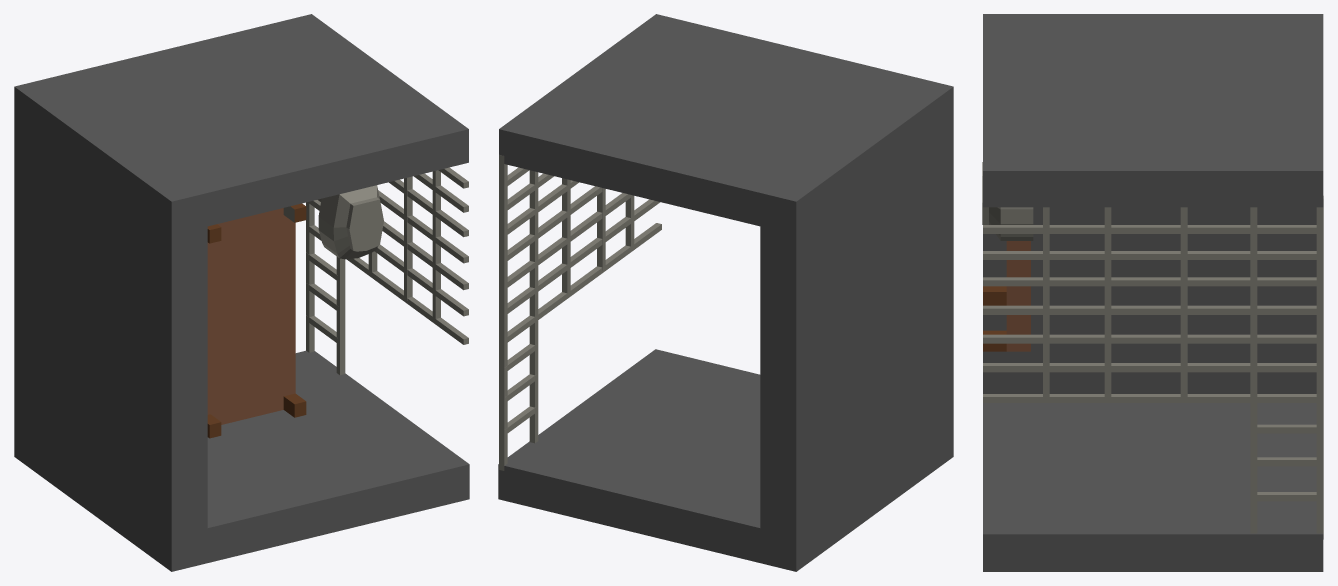
The model's file is pisonCell.fbx.
3 views of the same model, side by side, from view 1: azimuth 30°, elevation 25°; view 2: azimuth 150°, elevation 25°; view 3: azimuth 270°, elevation 25° (orthographic). The views are drawn at different scales.
Visible parts, largest first — view 1: Cube; view 2: Cube; view 3: Cube.
Boxes of the visible parts, x1,y1,x2,y2 form: Cube: (14,14,469,571); Cube: (498,14,953,571); Cube: (982,14,1323,571).
Bounding box in the file's own units: 219 × 260 × 200.
